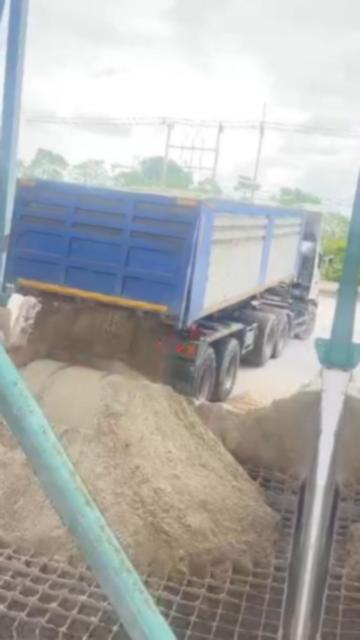sand: (25, 360, 275, 572), (26, 297, 174, 382), (0, 389, 72, 557), (198, 383, 319, 477), (7, 294, 38, 366), (119, 186, 208, 199), (0, 304, 9, 343)
